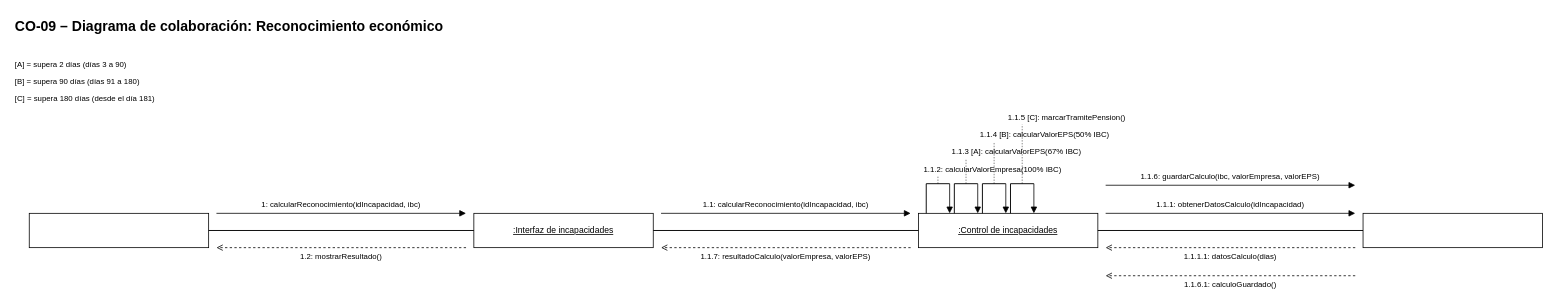
Image size: 1556x304. Some labels were removed from this diagram. The box of each missing label's shape, as (x1, y1, x2, y2) in pixels:
:Auxiliar de Administración de Personal: (28, 213, 209, 248)
:Base de datos: (1362, 213, 1542, 248)
